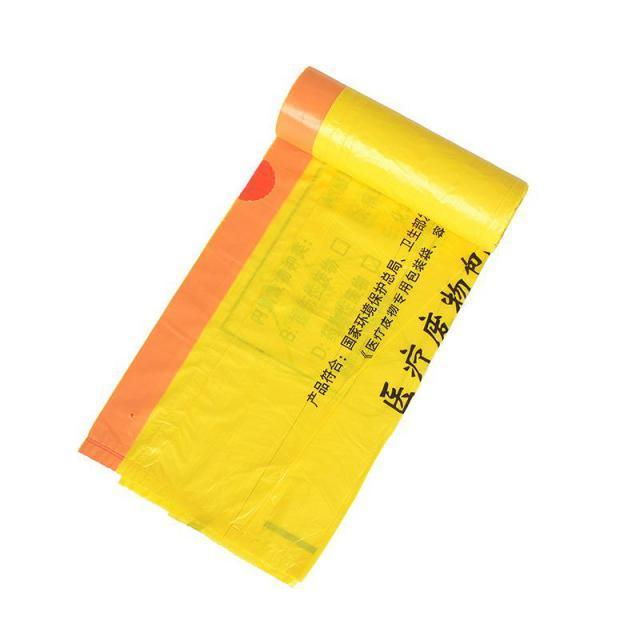waste: (71, 72, 518, 565)
